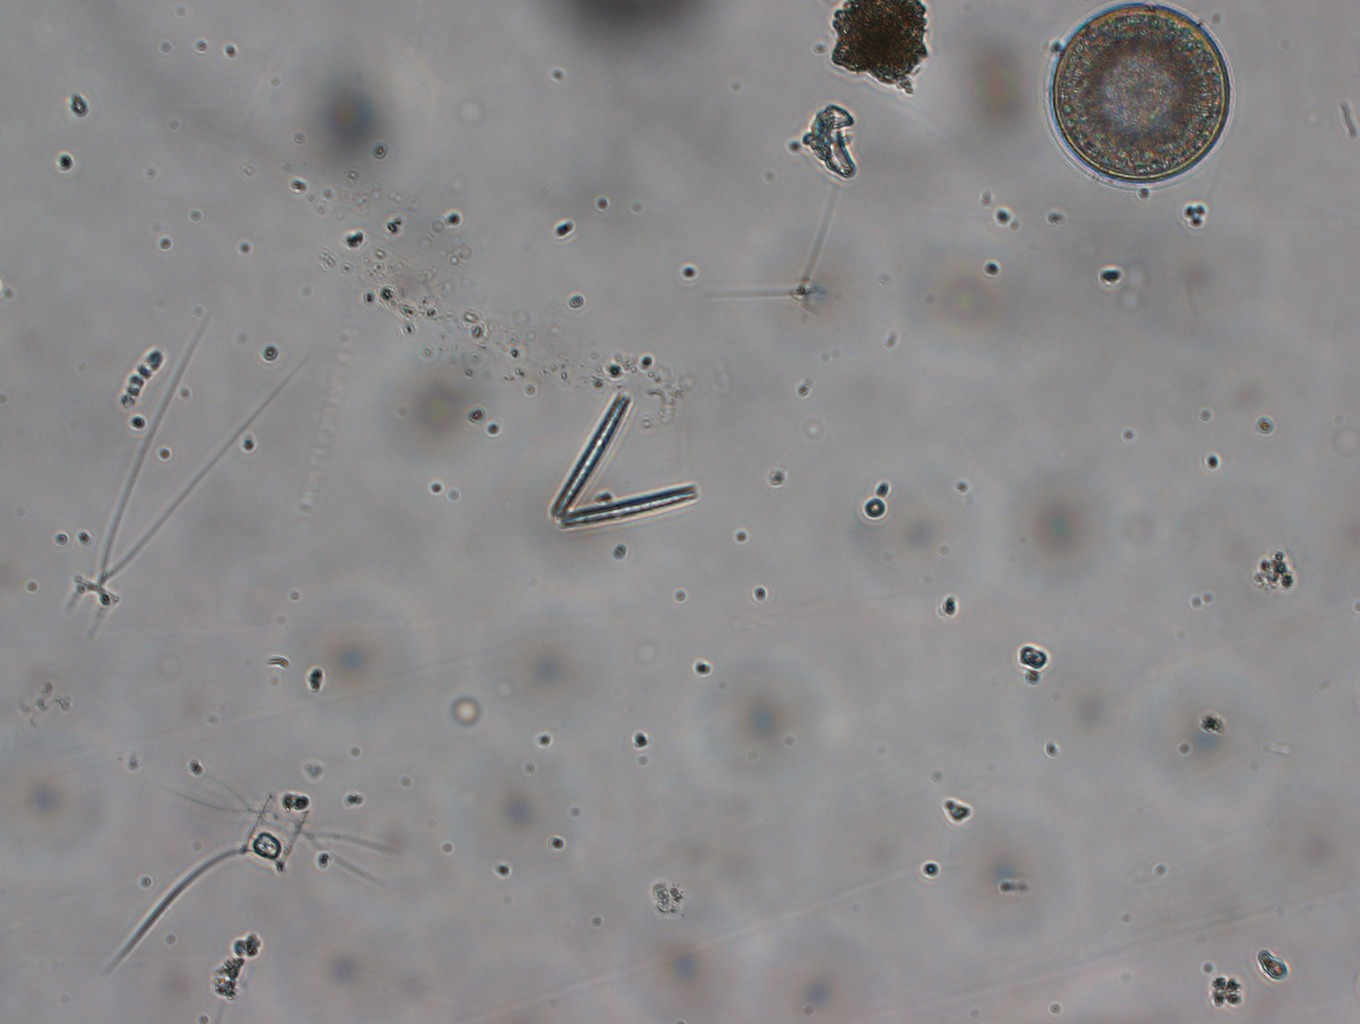chaetoceros: (51, 317, 277, 659), (98, 770, 395, 975)
coscinodiscus: (1041, 1, 1249, 196)
thalassionema frauenfeldii: (540, 386, 706, 547)
